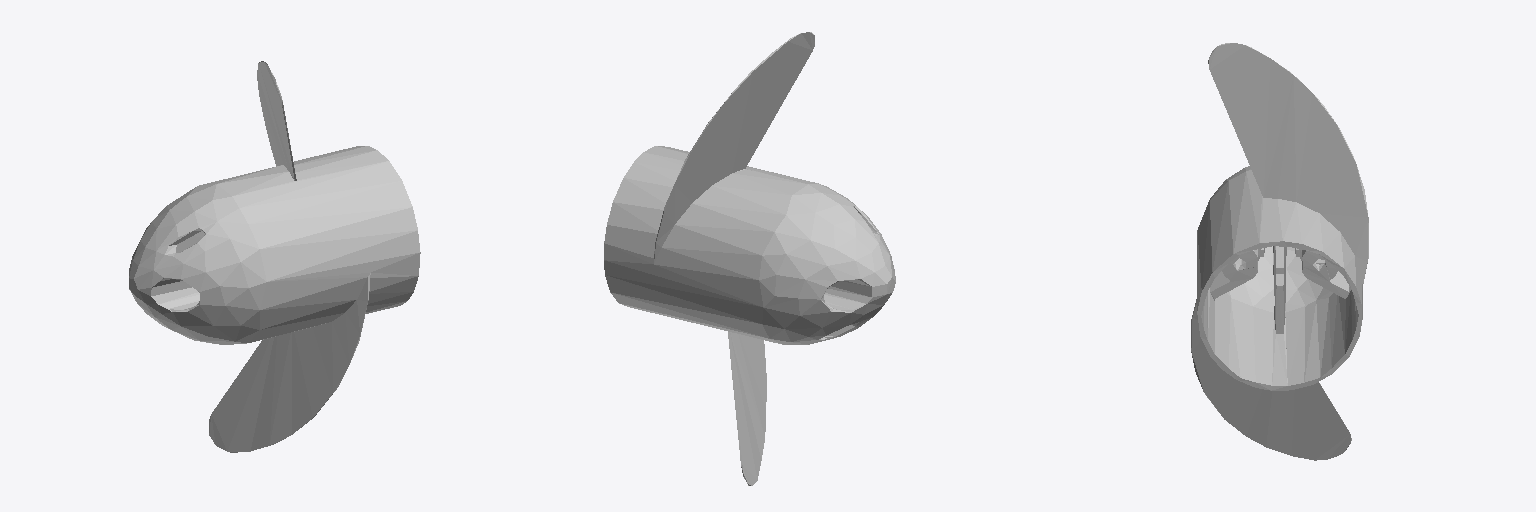
File: propeller.obj
3 renders of one model, left to right at view 1: azimuth 30°, elevation 25°; view 2: azimuth 150°, elevation 25°; view 3: azimuth 270°, elevation 25°, orthographic.
Visible parts, largest first — view 1: Propeller_left; view 2: Propeller_left; view 3: Propeller_left.
Boxes of the visible parts, box(x1,y1,x2,y2) form: Propeller_left: box(129, 61, 420, 452); Propeller_left: box(604, 32, 895, 485); Propeller_left: box(1191, 43, 1368, 460).
Size of the model in its own units: 0.0648 by 0.1047 by 0.0406.